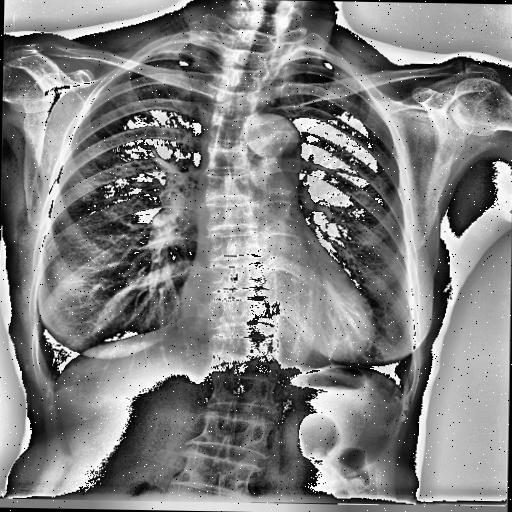0- Aortic enlargement: (238, 111, 304, 173), (239, 115, 301, 179), (245, 111, 303, 151)
10- Pleural effusion: (395, 360, 415, 412), (36, 372, 66, 402)
11- Pleural thickening: (132, 42, 234, 66), (395, 360, 415, 412), (36, 372, 66, 402), (387, 383, 415, 413), (150, 42, 192, 60), (42, 369, 70, 394)
3- Cardiomegaly: (178, 289, 376, 360)
9- Other lesion: (194, 14, 292, 390), (197, 52, 280, 388)
